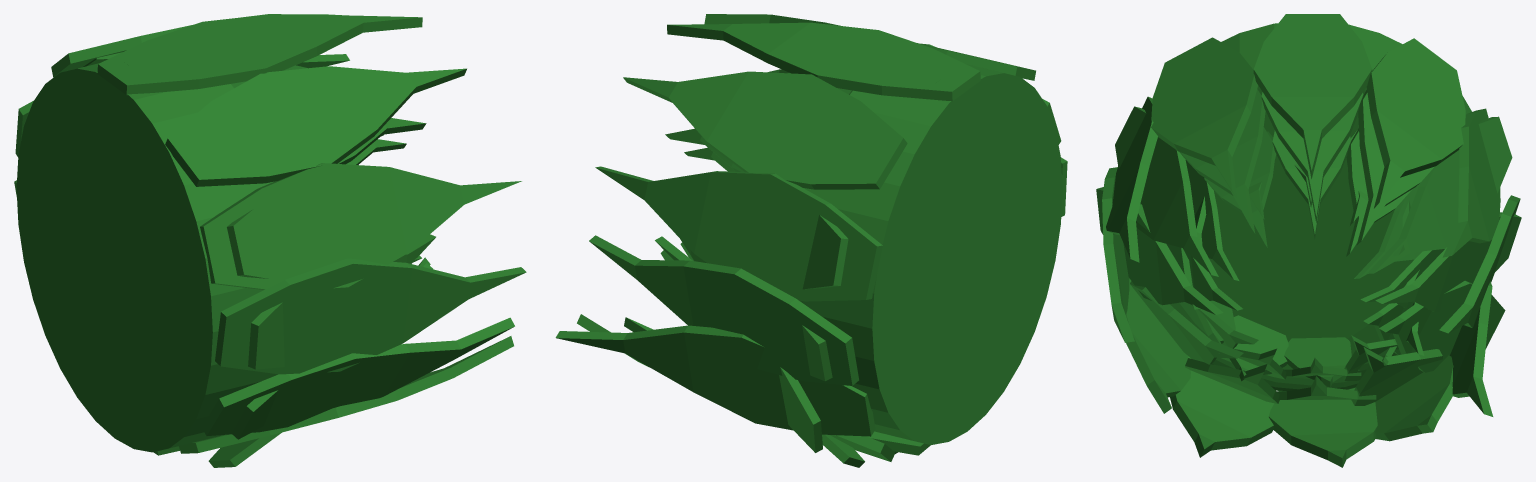
The model's file is bud.fbx.
3 views of the same model, side by side, from view 1: azimuth 30°, elevation 25°; view 2: azimuth 150°, elevation 25°; view 3: azimuth 270°, elevation 25° (orthographic). The views are drawn at different scales.
Parts seen in each view (by area): view 1: Cylinder.003; view 2: Cylinder.003; view 3: Cylinder.003.
Boxes of the visible parts, left/top/right/bottom form: Cylinder.003: left=14, top=14, right=526, bottom=467; Cylinder.003: left=555, top=14, right=1067, bottom=467; Cylinder.003: left=1096, top=14, right=1521, bottom=467.
Bounding box in the file's own units: 62.64 × 67.6 × 72.26.
